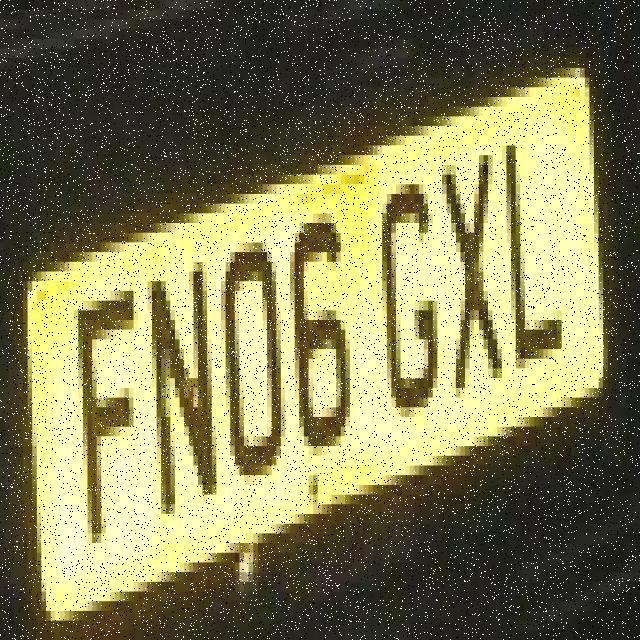LicensePlate: (22, 49, 607, 610)
